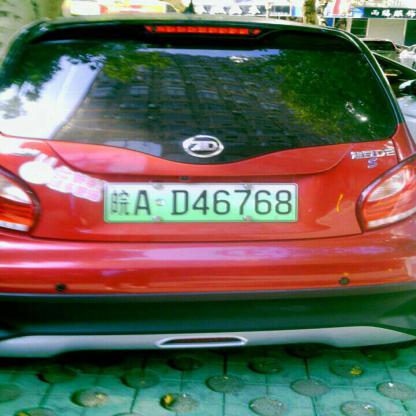lp: (107, 184, 295, 219)
